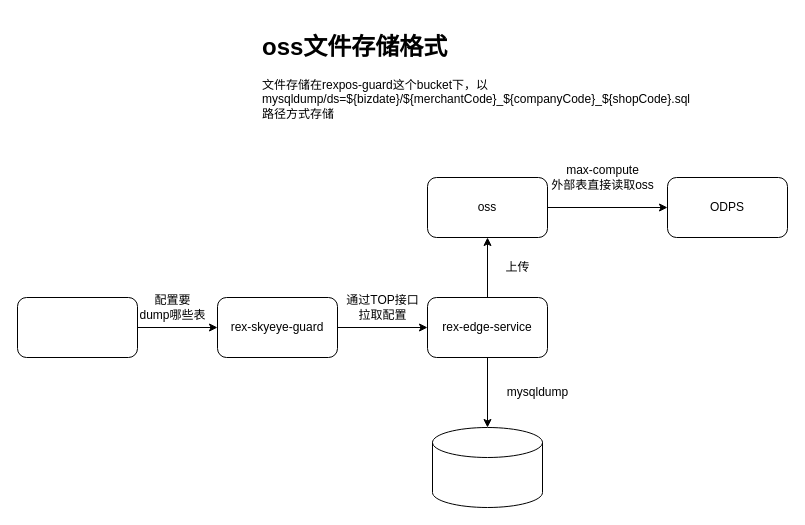
This 805x525 diagram has some shape labels left out. Each missing label, with the centre of its shape:
mysql: pixel 487 467
rex-config: pixel 77 327
